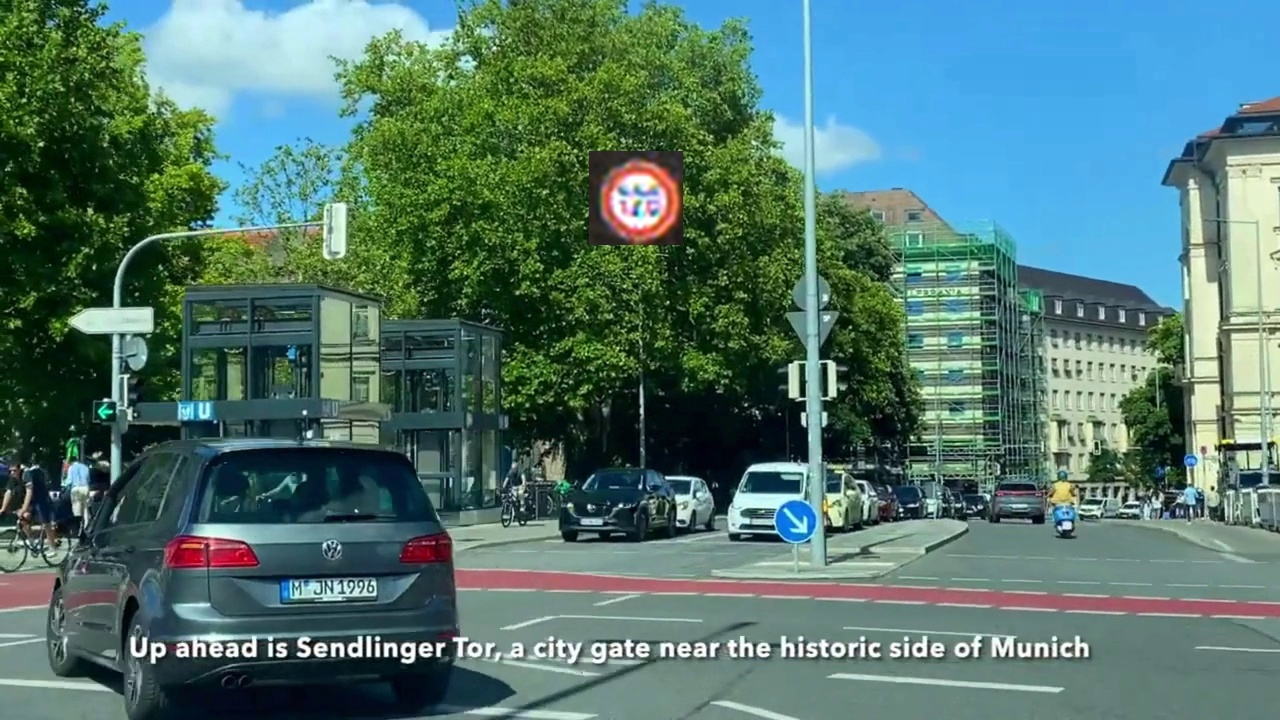Speed 120: (589, 151, 683, 245)
